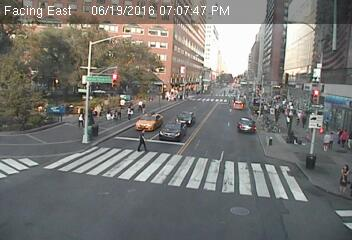neg: (178, 109, 194, 130), (218, 110, 233, 130), (197, 90, 208, 105)
pos: (334, 162, 351, 195), (134, 126, 154, 153)
